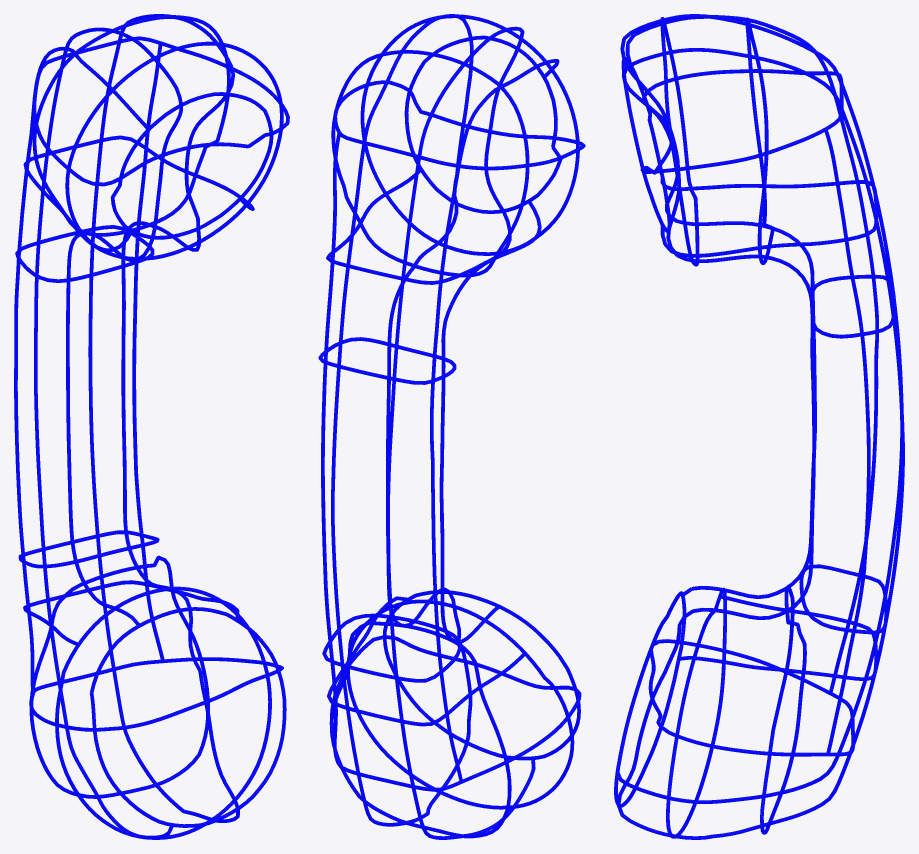
Rendered from flowrep_phone.glb.
The picture shows the model from 3 angles, left to right: view 1: azimuth 30°, elevation 25°; view 2: azimuth 150°, elevation 25°; view 3: azimuth 270°, elevation 25°; orthographic projection.
Visible parts, largest first — view 1: flowrep_phone; view 2: flowrep_phone; view 3: flowrep_phone.
Part boxes in pixels (<box>): flowrep_phone: <box>14,14,289,839</box>; flowrep_phone: <box>318,14,585,839</box>; flowrep_phone: <box>614,14,904,839</box>.
Size of the model in its own units: 0.2679 by 0.9206 by 0.3042.
